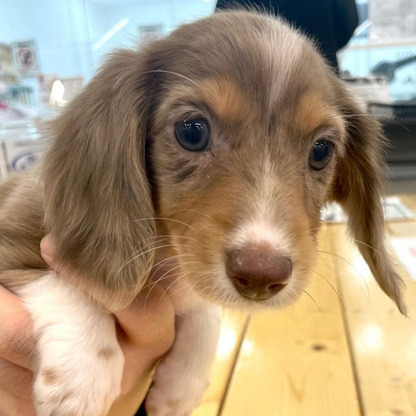dachshund: (24, 15, 390, 361)
